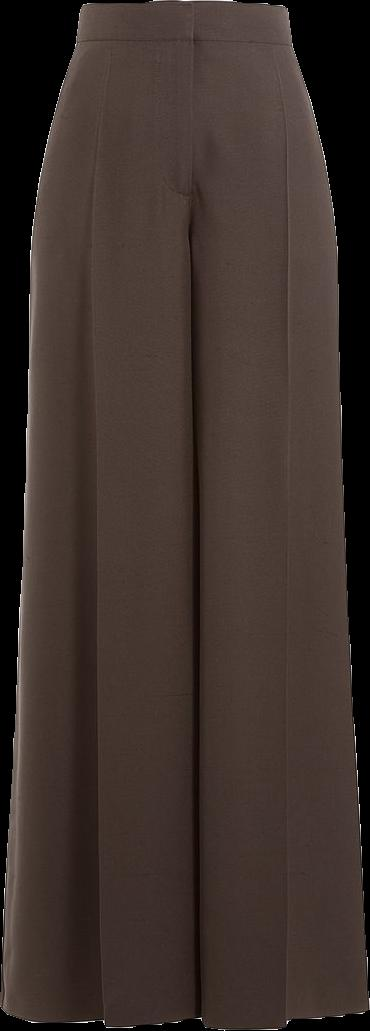Hemline: (191, 998, 369, 1030), (2, 999, 195, 1028)
Pantleg: (1, 0, 192, 1027), (193, 1, 368, 1027)
Waistline: (70, 31, 293, 49), (76, 0, 286, 11)
